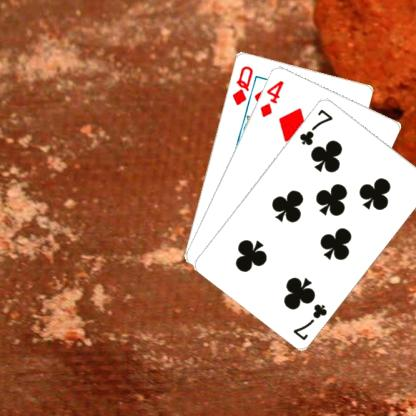4D: (257, 78, 285, 118)
7C: (290, 300, 328, 342), (296, 106, 334, 146)
QD: (229, 63, 254, 106)
